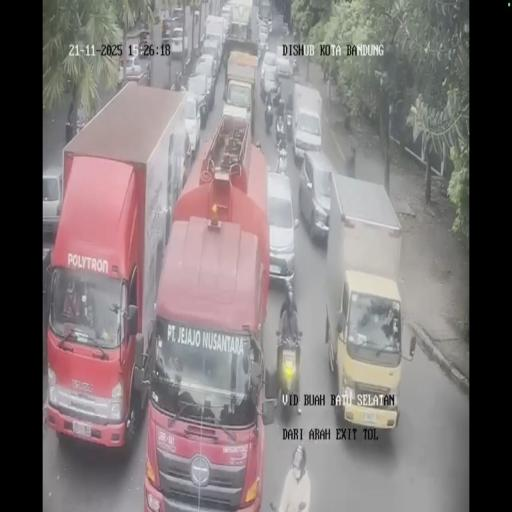3: (46, 81, 193, 454), (322, 174, 408, 431)
car: (266, 172, 296, 291), (299, 150, 332, 244), (223, 79, 254, 136), (185, 72, 211, 133), (294, 108, 322, 162), (202, 30, 224, 71), (122, 55, 142, 82), (161, 15, 174, 43), (258, 28, 268, 58), (220, 4, 232, 28), (138, 29, 150, 53), (265, 15, 273, 35)
truck: (274, 111, 286, 152), (270, 84, 282, 115), (285, 107, 293, 142)
